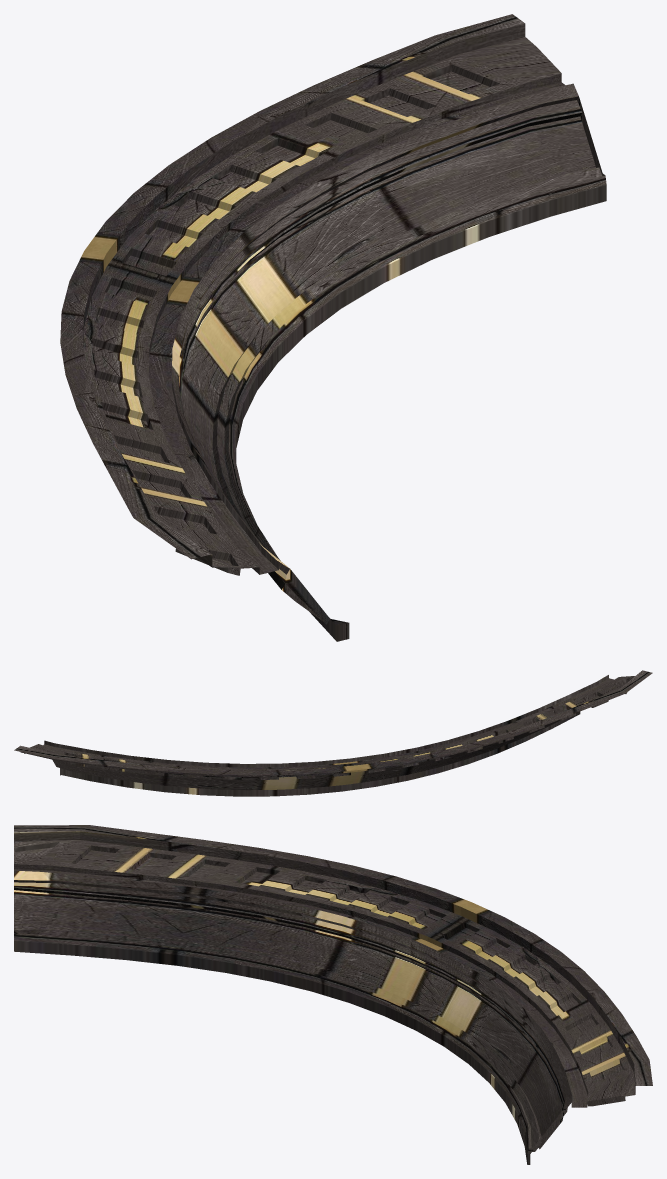
File: Moulding_01_InnerBevel.FBX
The picture shows the model from 3 angles, top to bottom: view 1: azimuth 30°, elevation 25°; view 2: azimuth 150°, elevation 25°; view 3: azimuth 270°, elevation 25°; orthographic projection. The views are drawn at different scales.
Parts seen in each view (by area): view 1: Moulding90degreeInnerBevel; view 2: Moulding90degreeInnerBevel; view 3: Moulding90degreeInnerBevel.
Boxes of the visible parts, x1=… form: Moulding90degreeInnerBevel: x1=60, y1=14, x2=606, y2=641; Moulding90degreeInnerBevel: x1=14, y1=670, x2=652, y2=796; Moulding90degreeInnerBevel: x1=14, y1=825, x2=652, y2=1164.
Bounding box in the file's own units: 310 × 43.74 × 321.
